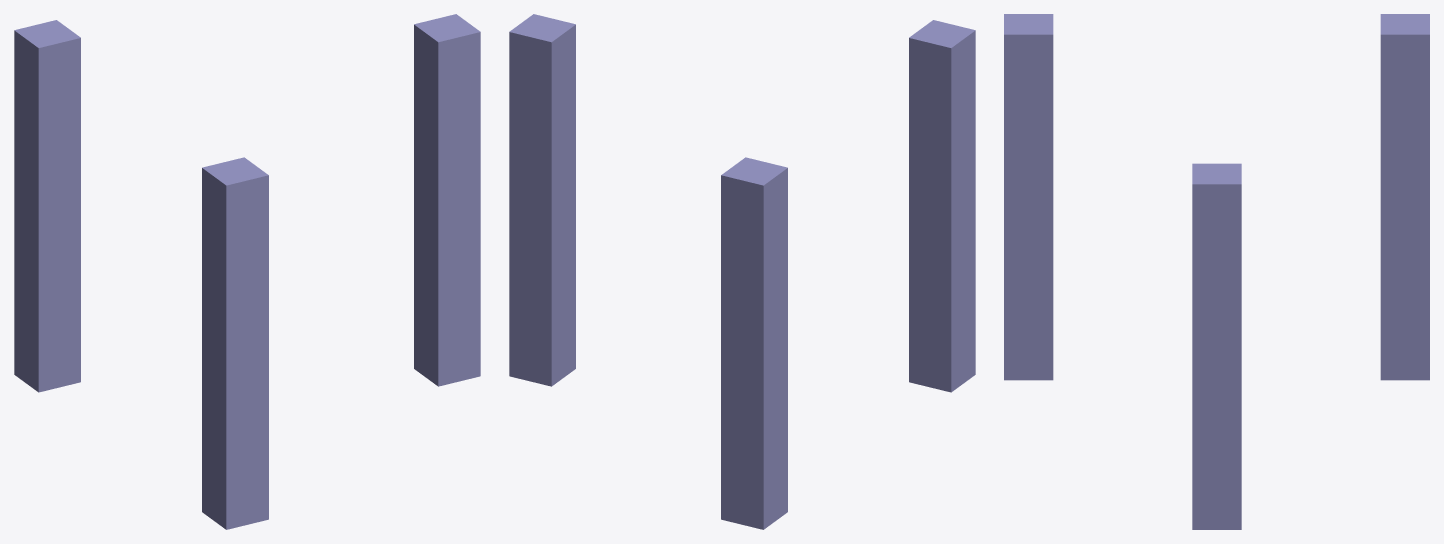
Rendered from DumpMagnetSupportLeg.gltf.
3 views of the same model, side by side, from view 1: azimuth 30°, elevation 25°; view 2: azimuth 150°, elevation 25°; view 3: azimuth 270°, elevation 25° (orthographic).
Visible parts, largest first — view 1: logicDumpMagnetSupportLeg_pv0x2220508, logicDumpMagnetSupportLeg_pv0x2220540, logicDumpMagnetSupportLeg_pv0x2220578; view 2: logicDumpMagnetSupportLeg_pv0x2220508, logicDumpMagnetSupportLeg_pv0x2220540, logicDumpMagnetSupportLeg_pv0x2220578; view 3: logicDumpMagnetSupportLeg_pv0x2220578, logicDumpMagnetSupportLeg_pv0x2220508, logicDumpMagnetSupportLeg_pv0x2220540.
Part boxes in pixels (box(x1,y1,x2,y2)): logicDumpMagnetSupportLeg_pv0x2220508: box(14, 20, 80, 392); logicDumpMagnetSupportLeg_pv0x2220540: box(202, 157, 268, 529); logicDumpMagnetSupportLeg_pv0x2220578: box(414, 14, 480, 386); logicDumpMagnetSupportLeg_pv0x2220508: box(721, 157, 787, 529); logicDumpMagnetSupportLeg_pv0x2220540: box(909, 20, 975, 392); logicDumpMagnetSupportLeg_pv0x2220578: box(509, 14, 575, 386); logicDumpMagnetSupportLeg_pv0x2220578: box(1192, 163, 1241, 529); logicDumpMagnetSupportLeg_pv0x2220508: box(1380, 14, 1429, 380); logicDumpMagnetSupportLeg_pv0x2220540: box(1004, 14, 1053, 380).
Size of the model in its own units: 127 by 120 by 134.
